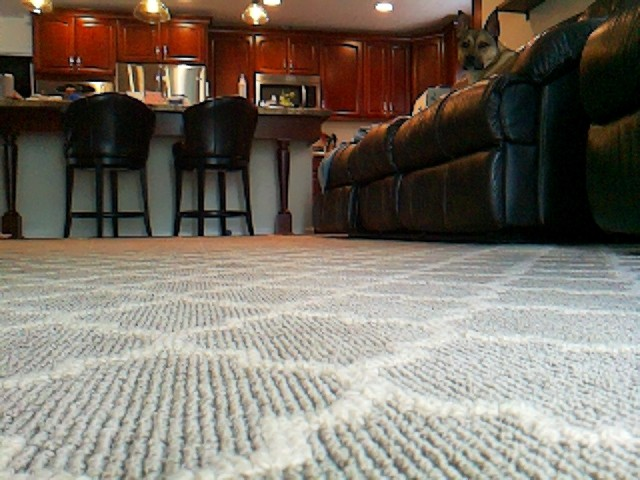Drivable Area: (1, 244, 352, 480), (351, 247, 640, 480)
Obstacle: (323, 50, 639, 240), (2, 99, 322, 236)
